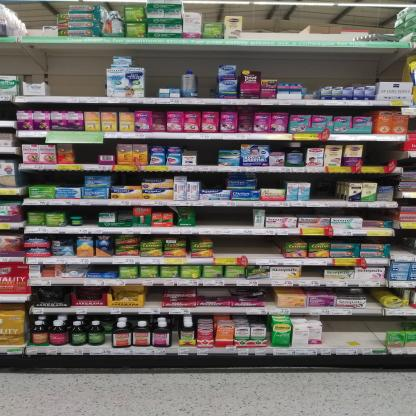empty_space: (243, 11, 296, 42), (307, 11, 351, 42), (51, 62, 81, 98), (335, 318, 360, 348), (84, 62, 104, 98), (364, 318, 384, 349), (214, 237, 239, 259), (244, 238, 270, 259), (365, 144, 387, 168), (312, 180, 335, 202), (197, 144, 218, 167), (145, 64, 159, 98), (234, 208, 254, 229), (197, 208, 217, 229), (78, 145, 97, 166), (322, 319, 333, 349), (146, 288, 162, 307), (82, 208, 97, 228), (200, 73, 209, 100), (220, 208, 231, 229), (391, 247, 414, 256)
